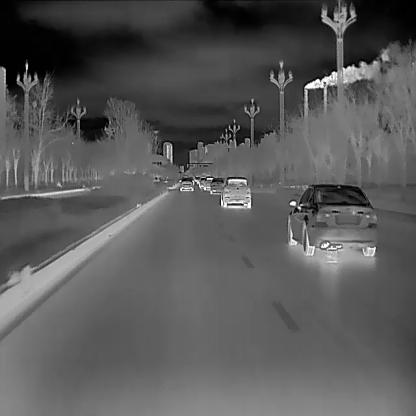car: (287, 183, 376, 256), (220, 176, 251, 208), (210, 178, 225, 194), (178, 177, 194, 191), (203, 176, 216, 190)
